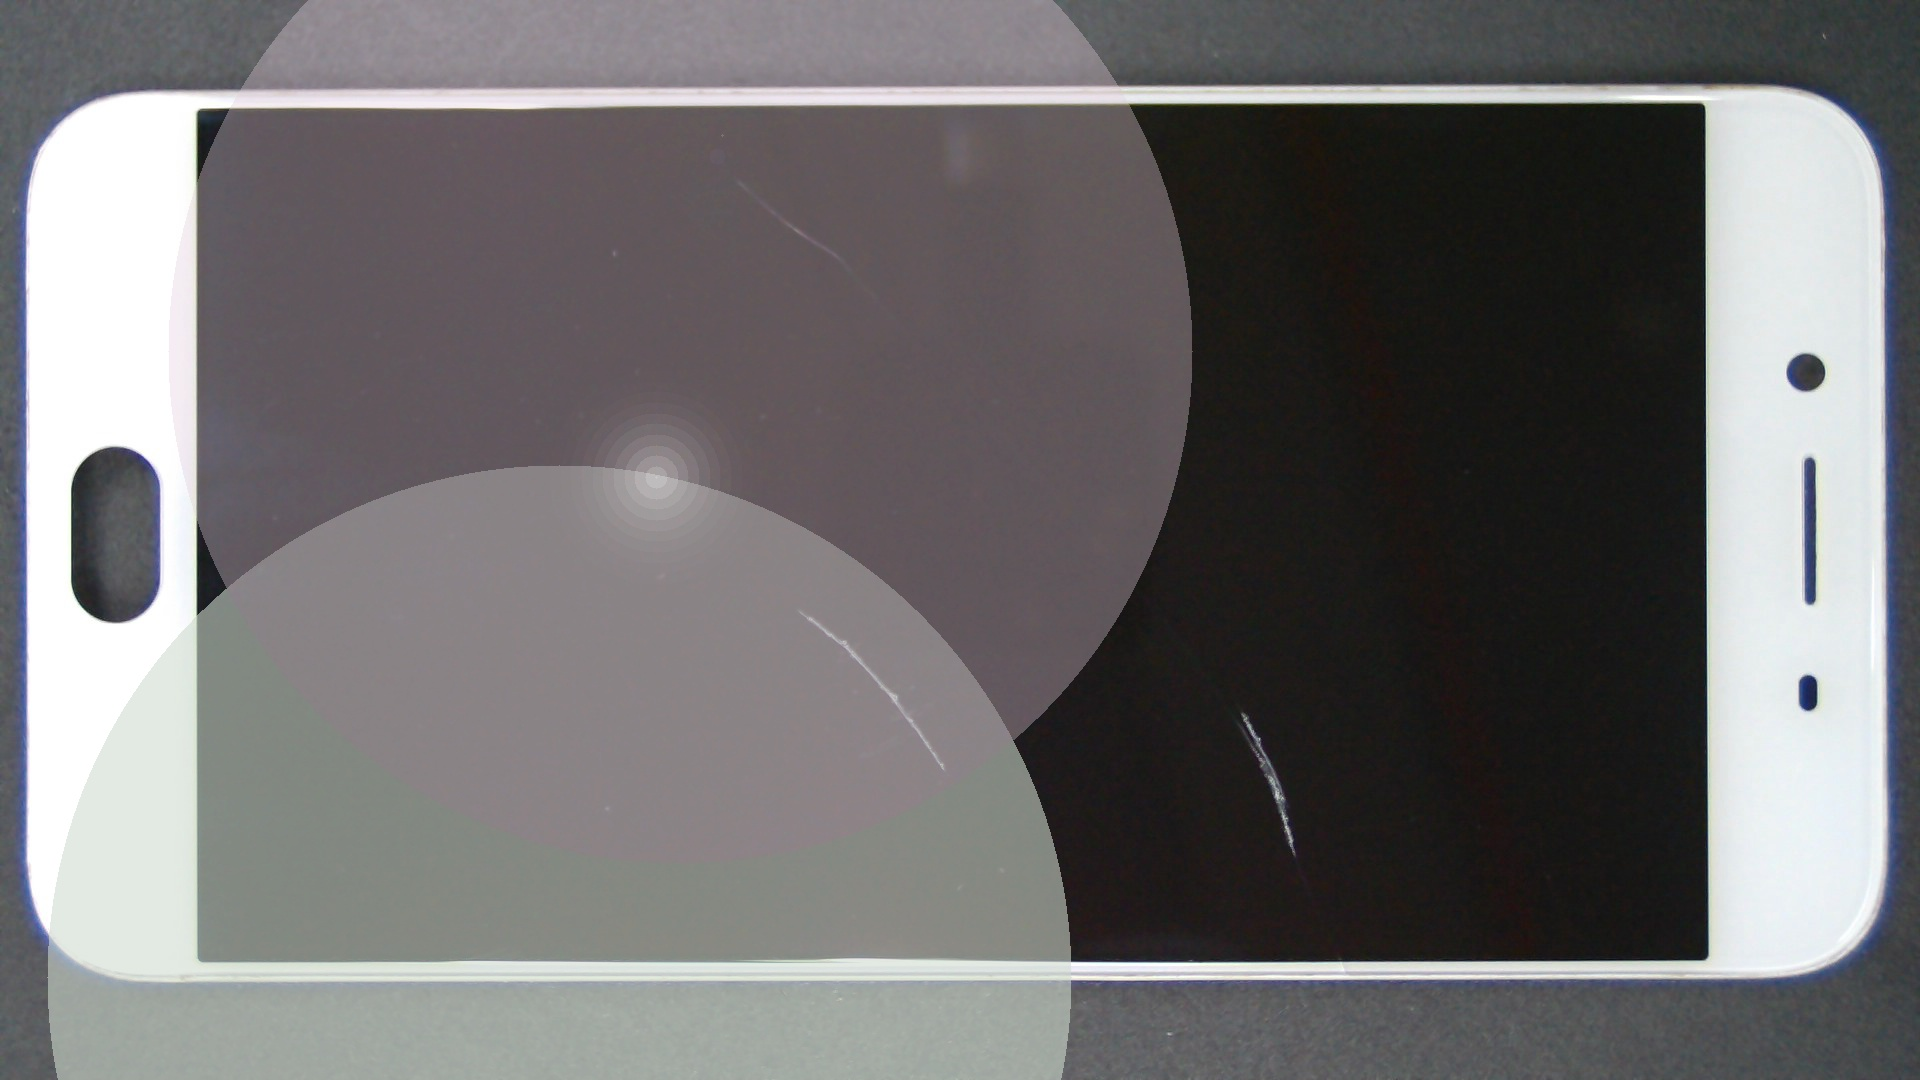oil: (621, 356, 1862, 1068), (397, 305, 1199, 919), (371, 88, 1108, 272)
